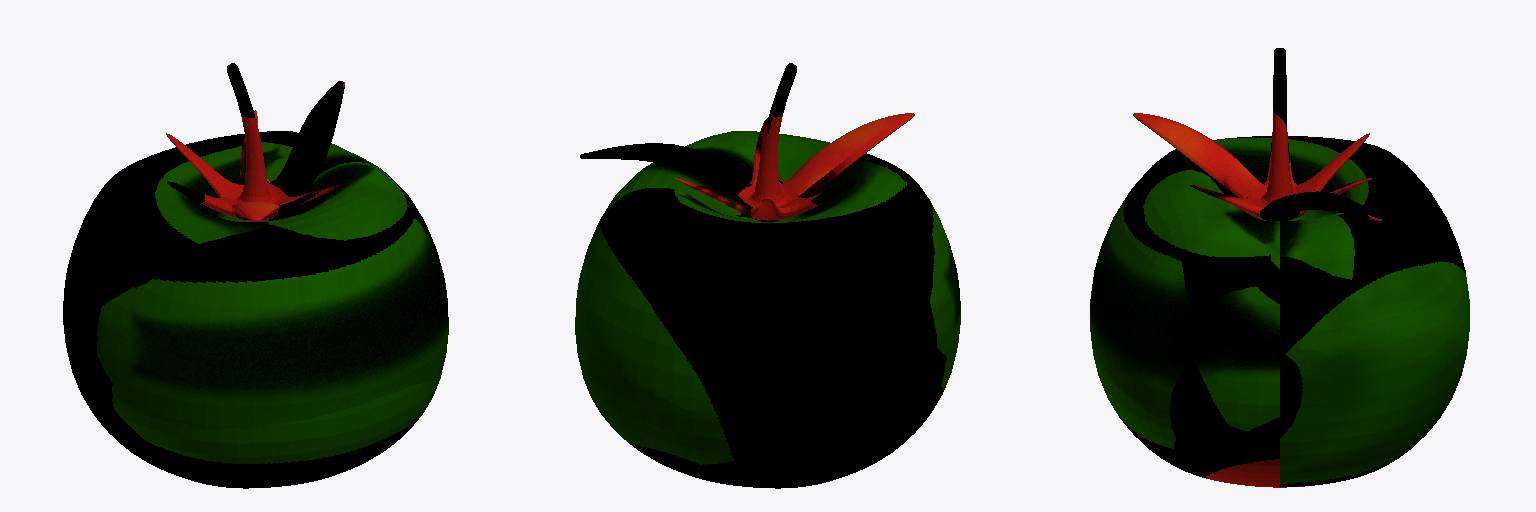
The picture shows the model from 3 angles: view 1: azimuth 30°, elevation 25°; view 2: azimuth 150°, elevation 25°; view 3: azimuth 270°, elevation 25°; orthographic projection.
Visible parts, largest first — view 1: Cube.001, Cylinder; view 2: Cube.001, Cylinder; view 3: Cube.001, Cylinder.
Part boxes in pixels (left/top/right/bottom): Cube.001: left=63, top=131, right=448, bottom=488; Cylinder: left=166, top=63, right=347, bottom=221; Cube.001: left=575, top=131, right=960, bottom=488; Cylinder: left=580, top=63, right=914, bottom=221; Cube.001: left=1090, top=136, right=1469, bottom=487; Cylinder: left=1133, top=48, right=1383, bottom=220.
Bounding box in the file's own units: 3.44 × 3.93 × 3.44.
Materials: 2 (1 with a texture image).